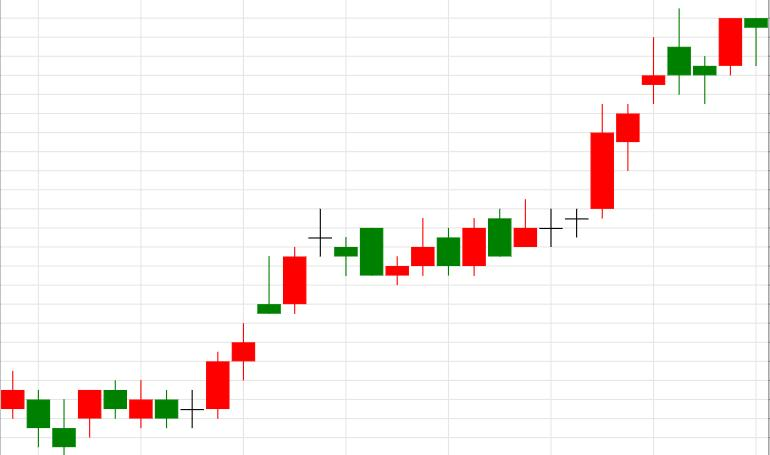shooting_star_fall: (565, 8, 691, 237)
